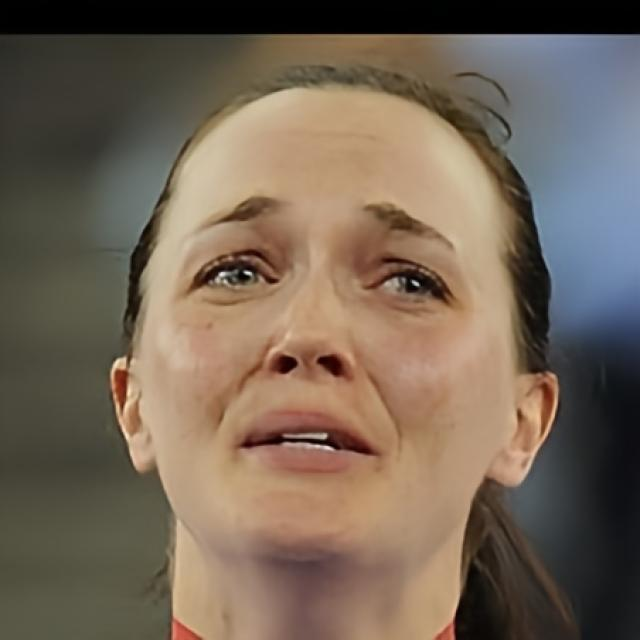sad: (136, 88, 516, 570)
